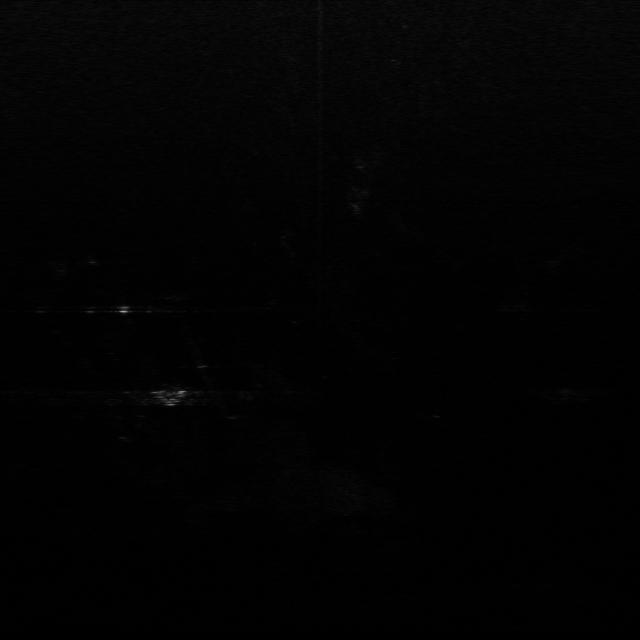rov: (149, 385, 192, 409)
